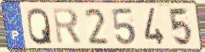2: (83, 7, 111, 46)
4: (143, 7, 166, 47)
5: (110, 6, 139, 47), (167, 7, 194, 47)
Q: (26, 6, 54, 46)
R: (51, 7, 84, 46)
